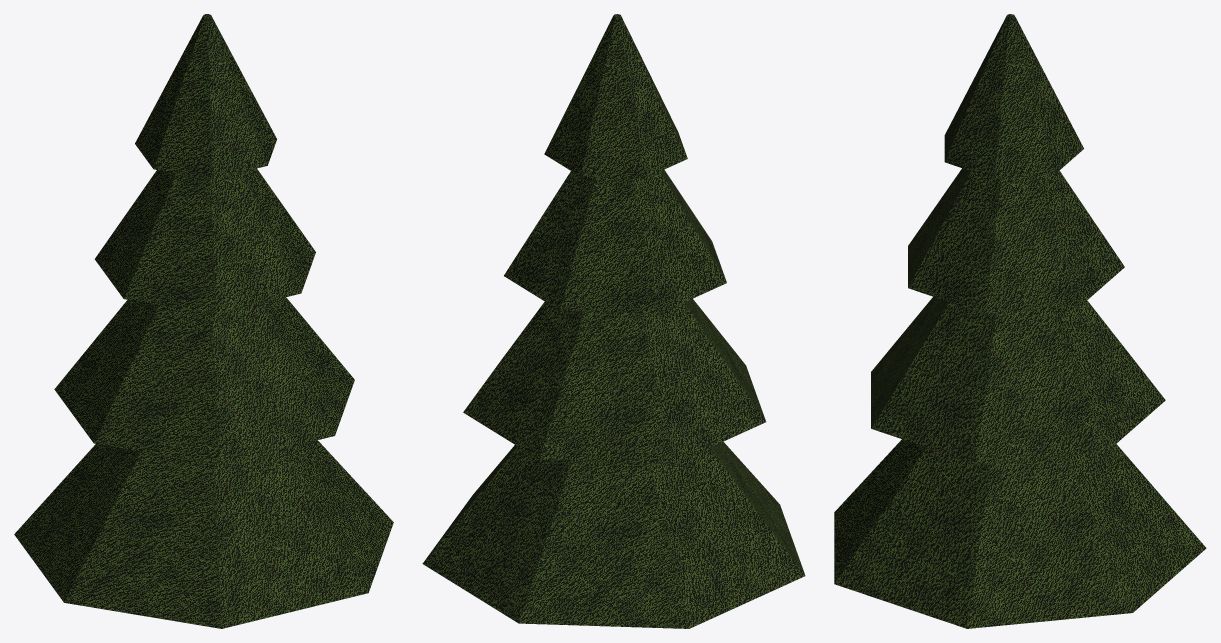
The model's file is ext_pine.glb.
3 views of the same model, side by side, from view 1: azimuth 30°, elevation 25°; view 2: azimuth 150°, elevation 25°; view 3: azimuth 270°, elevation 25° (orthographic).
Parts seen in each view (by area): view 1: ext_pine_mesh; view 2: ext_pine_mesh; view 3: ext_pine_mesh.
Boxes of the visible parts, x1=… form: ext_pine_mesh: x1=14, y1=14, x2=393, y2=628; ext_pine_mesh: x1=422, y1=14, x2=805, y2=628; ext_pine_mesh: x1=834, y1=14, x2=1206, y2=628.
Size of what is drawn, in the model's own units: 4.68 by 8.1 by 4.56.
Materials: 2 (2 with a texture image).
